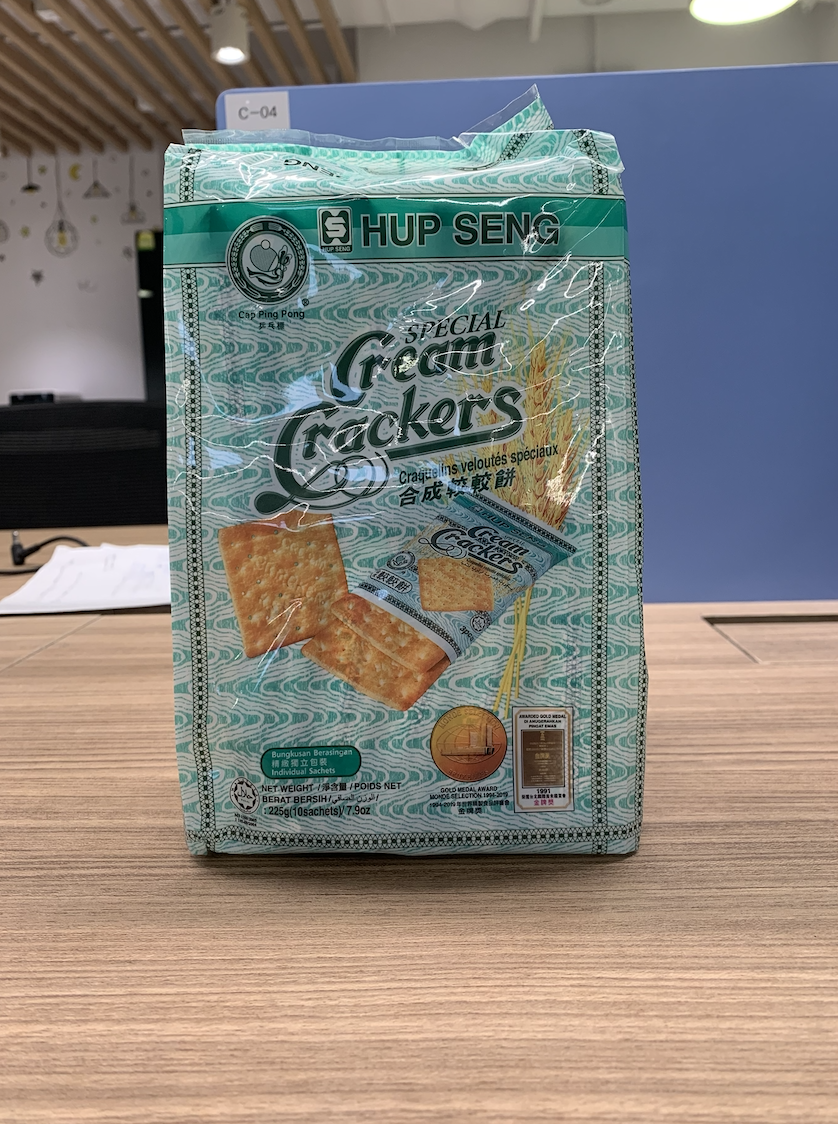crackers_200g-299g: (184, 156, 640, 844)
